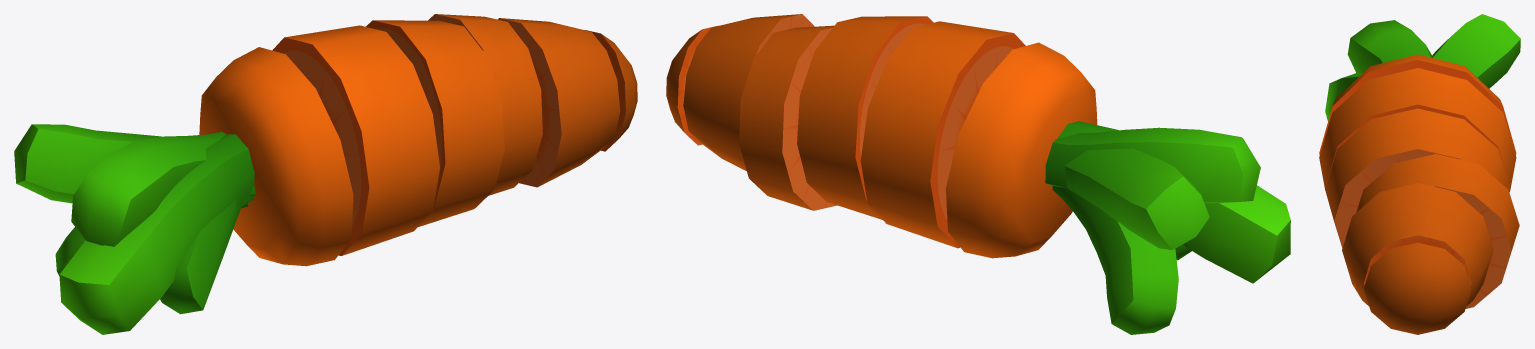
The model's file is Carrot_S5.fbx.
3 views of the same model, side by side, from view 1: azimuth 30°, elevation 25°; view 2: azimuth 150°, elevation 25°; view 3: azimuth 270°, elevation 25° (orthographic). The views are drawn at different scales.
Parts seen in each view (by area): view 1: Carrot_S5; view 2: Carrot_S5; view 3: Carrot_S5.
Boxes of the visible parts, left/top/right/bottom form: Carrot_S5: left=14, top=14, right=637, bottom=334; Carrot_S5: left=666, top=14, right=1290, bottom=334; Carrot_S5: left=1319, top=14, right=1520, bottom=334.
Bounding box in the file's own units: 111 × 40.99 × 37.47.
